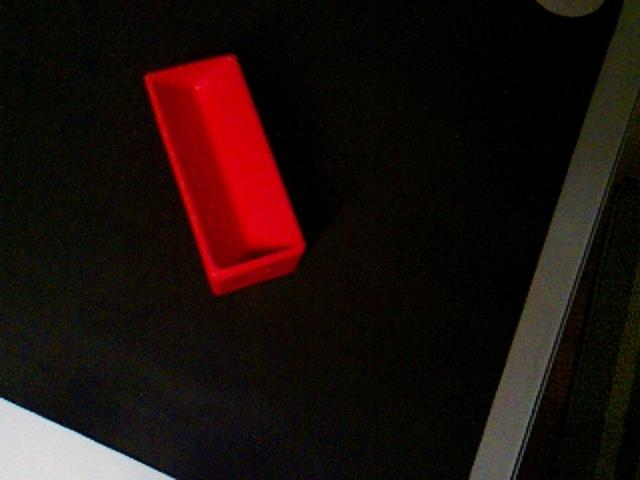red: (142, 52, 308, 297)
